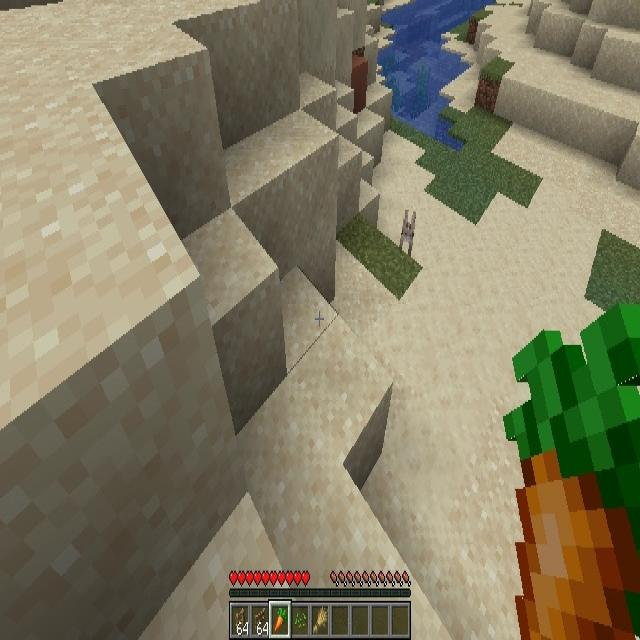rabbit: (398, 210, 416, 254)
